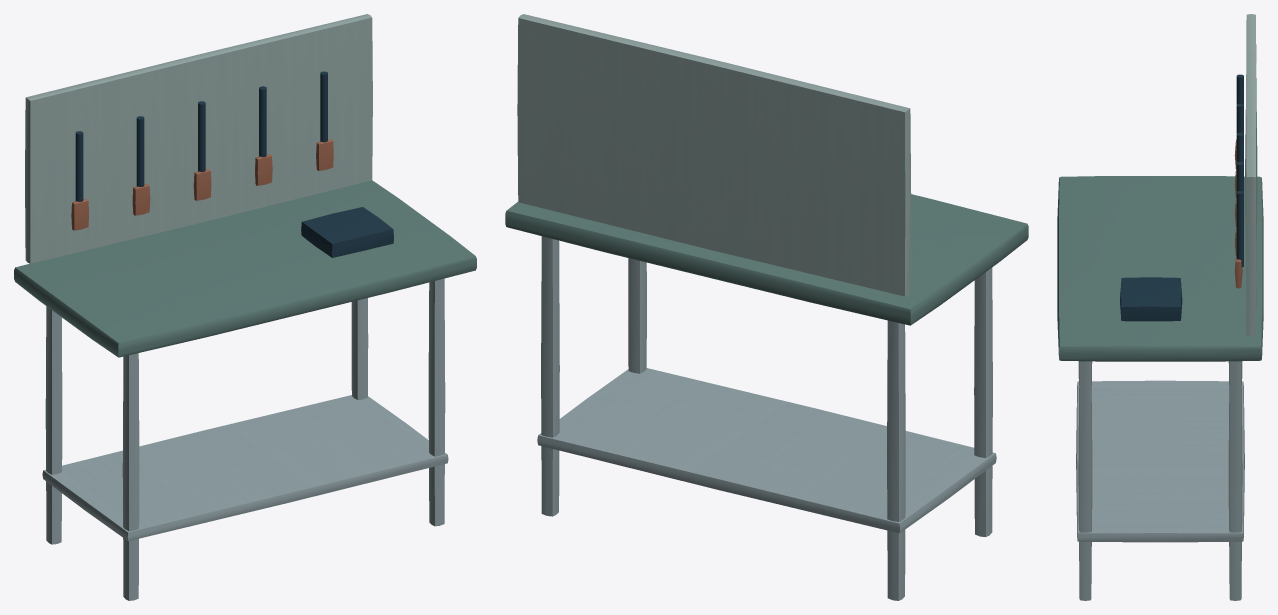
File: workshop-bench.glb
The picture shows the model from 3 angles, left to right: view 1: azimuth 30°, elevation 25°; view 2: azimuth 150°, elevation 25°; view 3: azimuth 270°, elevation 25°; orthographic projection. The views are drawn at different scales.
Parts seen in each view (by area): view 1: workshop-bench; view 2: workshop-bench; view 3: workshop-bench.
Part boxes in pixels (x1,y1,x2,y2): workshop-bench: (14, 14, 476, 600); workshop-bench: (505, 14, 1028, 600); workshop-bench: (1057, 14, 1263, 600).
Bounding box in the file's own units: 1.3 × 1.52 × 0.66.
Materials: 18 (18 with a texture image).
